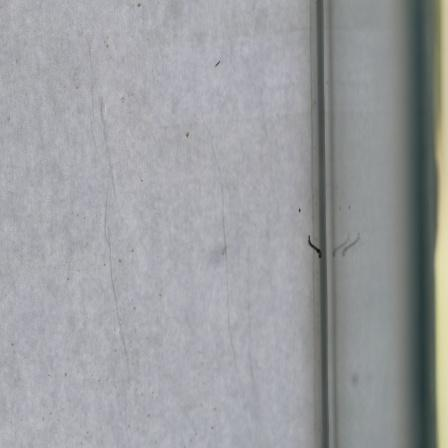Jentik-Nyamuk: (303, 231, 325, 263)
